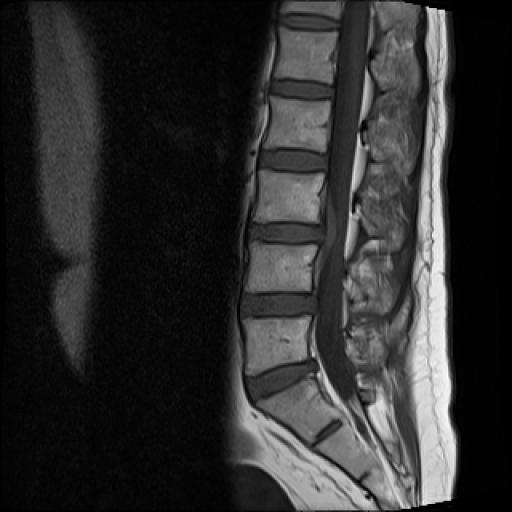L1: (273, 25, 337, 84)
L2: (263, 96, 331, 152)
L3: (254, 172, 322, 224)
L4: (247, 242, 317, 292)
L5: (242, 315, 310, 374)
S1: (252, 372, 342, 447)
